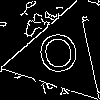O: (34, 31, 84, 84)
